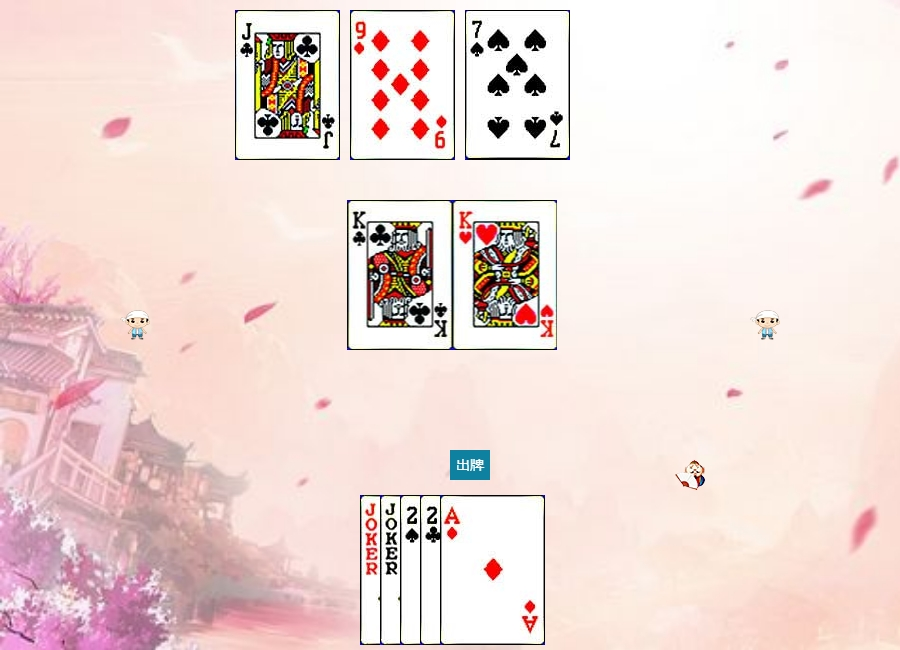11~2: (235, 10, 340, 160)
13~2: (348, 200, 453, 350)
13~3: (453, 200, 558, 350)
14~1: (440, 495, 545, 645)
15~2: (420, 495, 525, 645)
15~4: (400, 495, 505, 645)
17~3: (380, 495, 485, 645)
18~4: (360, 495, 465, 645)
7~4: (465, 10, 570, 160)
9~1: (350, 10, 455, 160)
